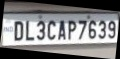character: (14, 20, 24, 41), (78, 19, 88, 40), (25, 20, 35, 40), (36, 20, 46, 40), (67, 20, 77, 39), (87, 20, 97, 39), (47, 19, 56, 39), (57, 20, 66, 39), (107, 20, 116, 38), (98, 20, 106, 38)
